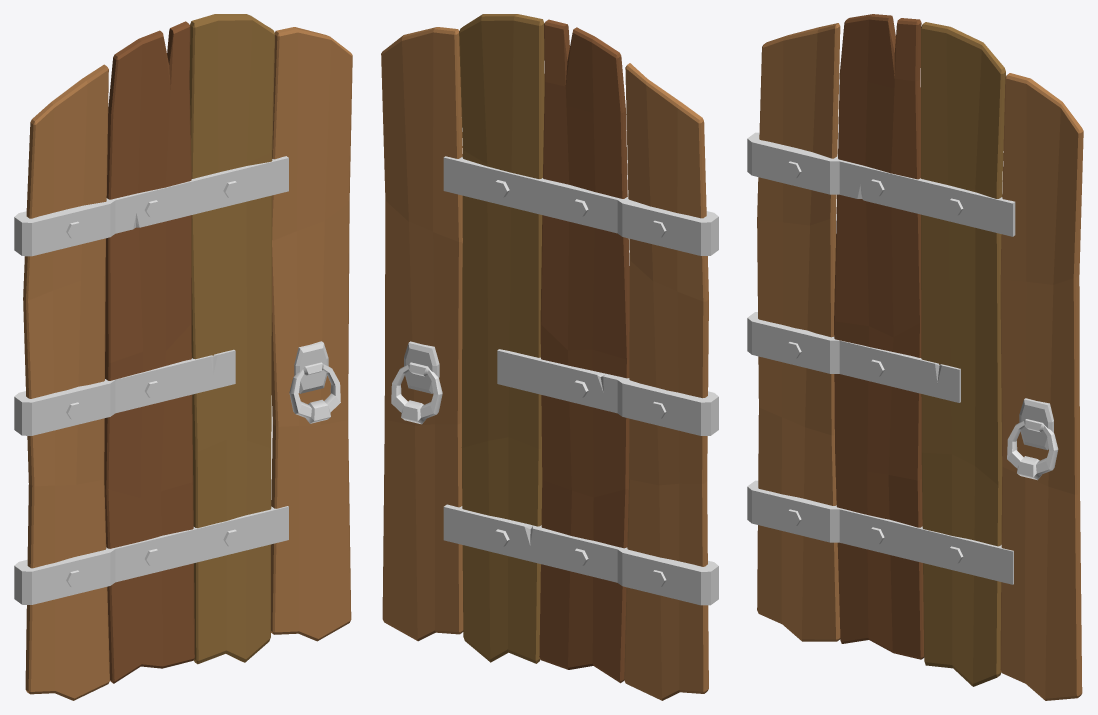
File: Deur.fbx
The picture shows the model from 3 angles, left to right: view 1: azimuth 30°, elevation 25°; view 2: azimuth 150°, elevation 25°; view 3: azimuth 330°, elevation 25°; orthographic projection.
Visible parts, largest first — view 1: Deur; view 2: Deur; view 3: Deur.
Boxes of the visible parts, left/top/right/bottom form: Deur: left=14, top=14, right=352, bottom=700; Deur: left=381, top=14, right=718, bottom=700; Deur: left=747, top=14, right=1083, bottom=700.
Size of the model in its own units: 78.75 by 148 by 12.6.
